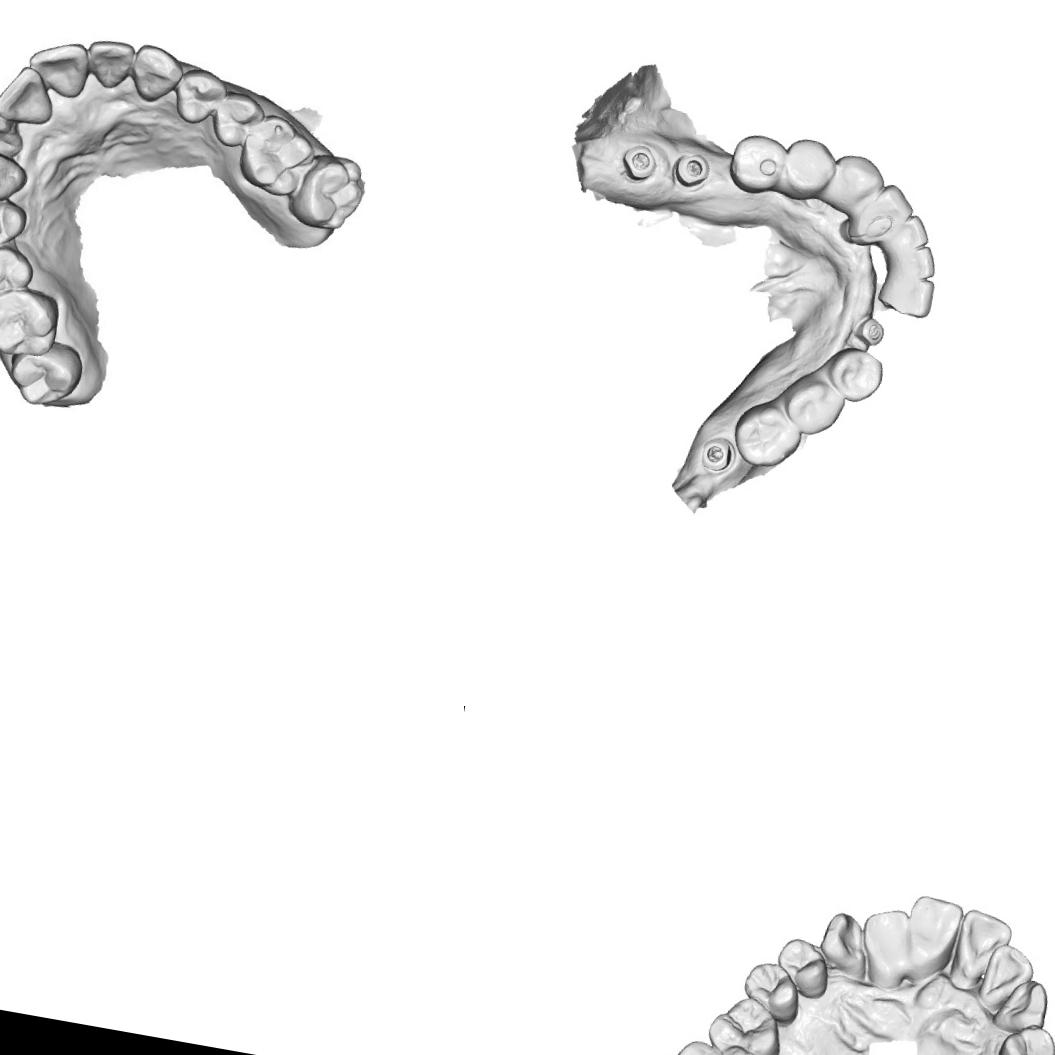canine: (822, 150, 888, 220), (123, 38, 188, 109), (815, 909, 875, 982), (990, 973, 1052, 1038), (0, 147, 31, 207)
implant: (668, 149, 714, 193), (618, 140, 661, 186), (697, 434, 736, 474), (850, 312, 887, 348)
incisor: (946, 906, 1015, 998), (897, 891, 965, 984), (852, 903, 914, 990), (973, 939, 1038, 1017), (20, 32, 92, 102), (0, 57, 62, 129), (78, 28, 138, 92), (882, 270, 937, 318), (870, 180, 916, 229), (892, 210, 932, 250), (900, 242, 938, 282), (0, 107, 26, 159)
molar: (232, 110, 320, 199), (285, 148, 370, 235), (0, 332, 88, 412), (698, 988, 789, 1055), (727, 396, 806, 472), (0, 282, 60, 360), (647, 1032, 735, 1055)
premolar: (780, 370, 848, 441), (723, 128, 788, 198), (737, 958, 805, 1024), (818, 342, 886, 406), (778, 134, 839, 205), (770, 934, 834, 1000), (206, 88, 266, 150), (169, 64, 228, 126), (993, 1018, 1055, 1055), (0, 242, 35, 299), (0, 194, 31, 253)
